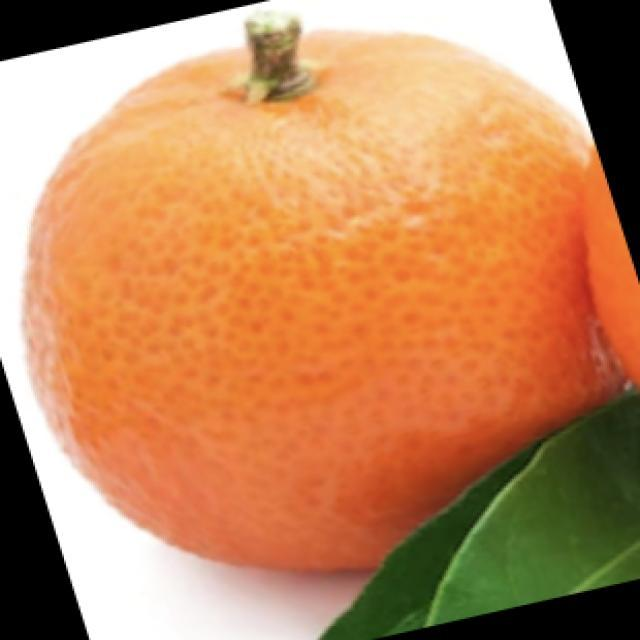Orange: (20, 7, 639, 574)
